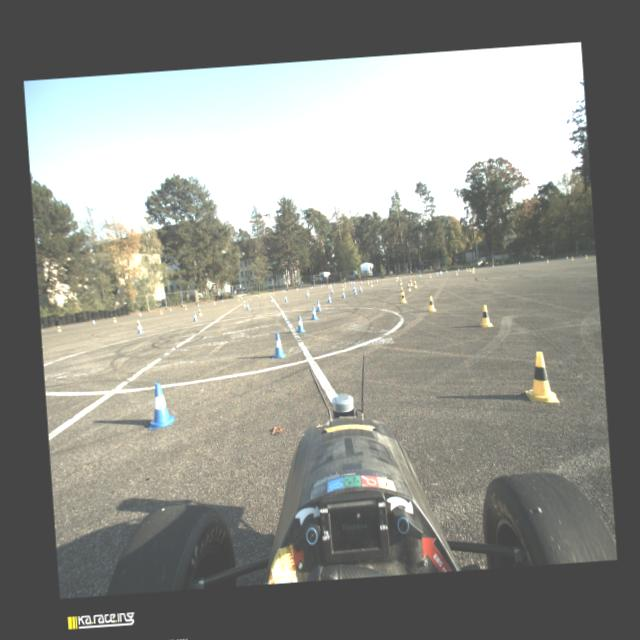blue_cone: (145, 381, 176, 429), (270, 332, 286, 358), (294, 315, 306, 333), (310, 305, 318, 320), (136, 322, 144, 333), (315, 300, 322, 312), (326, 294, 332, 304), (192, 312, 198, 322), (340, 290, 345, 298), (358, 284, 362, 292), (246, 302, 250, 310), (284, 294, 288, 302), (353, 288, 357, 294), (352, 284, 356, 290), (330, 286, 333, 294), (91, 318, 95, 324), (168, 307, 172, 312), (418, 272, 421, 278), (306, 290, 308, 298), (138, 311, 141, 316), (436, 270, 438, 276), (196, 302, 199, 306), (359, 280, 362, 284), (439, 270, 441, 275), (579, 253, 581, 257), (566, 255, 568, 259), (518, 261, 520, 265), (492, 264, 494, 268), (446, 268, 448, 272), (376, 278, 378, 282), (353, 280, 355, 284), (333, 282, 335, 286), (281, 288, 283, 292), (352, 280, 353, 284), (269, 292, 271, 294), (221, 300, 223, 302), (348, 281, 349, 284)
yellow_cone: (521, 349, 560, 406), (476, 304, 494, 328), (426, 294, 436, 312), (136, 318, 142, 329), (401, 291, 406, 303), (406, 282, 412, 292), (398, 285, 404, 295), (412, 280, 418, 288), (56, 324, 62, 332), (197, 308, 203, 316), (242, 299, 246, 307), (112, 316, 117, 322), (409, 279, 412, 286), (270, 295, 273, 302), (399, 278, 402, 285), (306, 289, 309, 295), (341, 284, 344, 290), (428, 272, 431, 278), (455, 270, 458, 276), (570, 256, 574, 260), (584, 254, 588, 258), (185, 305, 188, 310), (237, 296, 240, 301), (328, 283, 331, 288), (366, 279, 369, 284), (160, 308, 162, 314), (370, 280, 372, 286), (395, 276, 398, 280), (466, 266, 468, 272), (472, 267, 474, 273), (213, 300, 215, 305), (469, 267, 471, 272), (258, 293, 260, 297), (320, 284, 322, 288), (328, 284, 330, 288), (546, 258, 548, 262), (284, 288, 286, 292), (272, 290, 274, 294)
